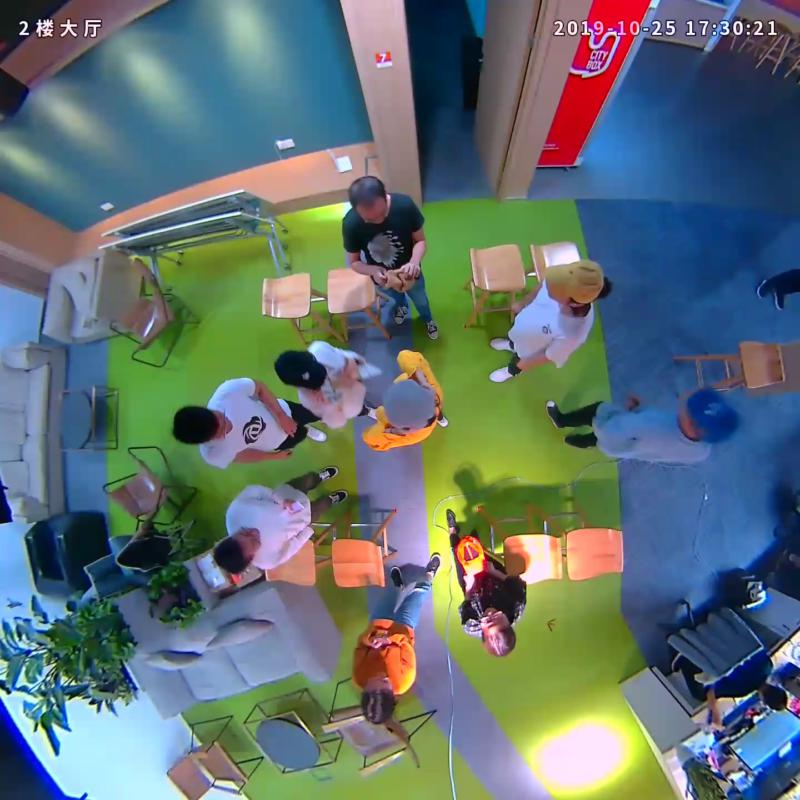head: (678, 387, 740, 446), (380, 380, 437, 432), (545, 259, 605, 306), (213, 525, 261, 575), (172, 406, 231, 444), (274, 350, 328, 391), (348, 175, 390, 225), (479, 606, 518, 658), (359, 673, 397, 724)
